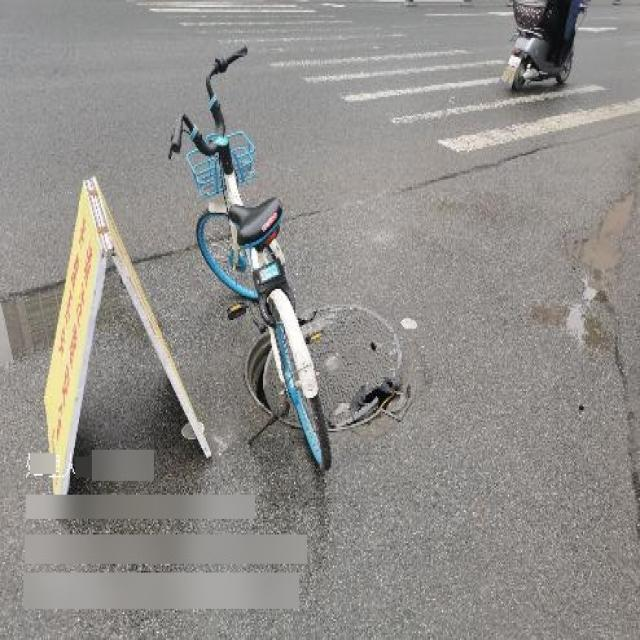Broken: (242, 304, 411, 429)
